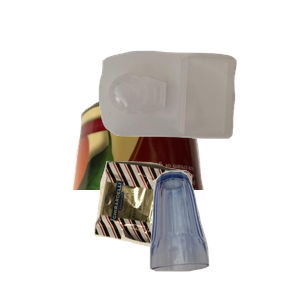glass: (147, 168, 300, 300)
metal: (69, 93, 265, 273)
plastic: (96, 48, 300, 179)
trash: (92, 158, 277, 300)
